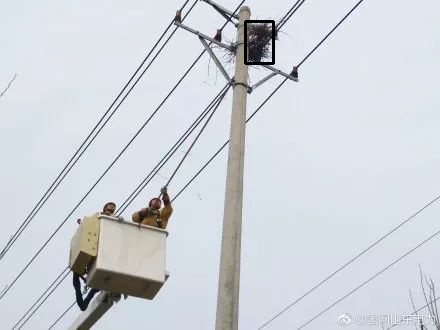bird-nest: (249, 23, 280, 59)
